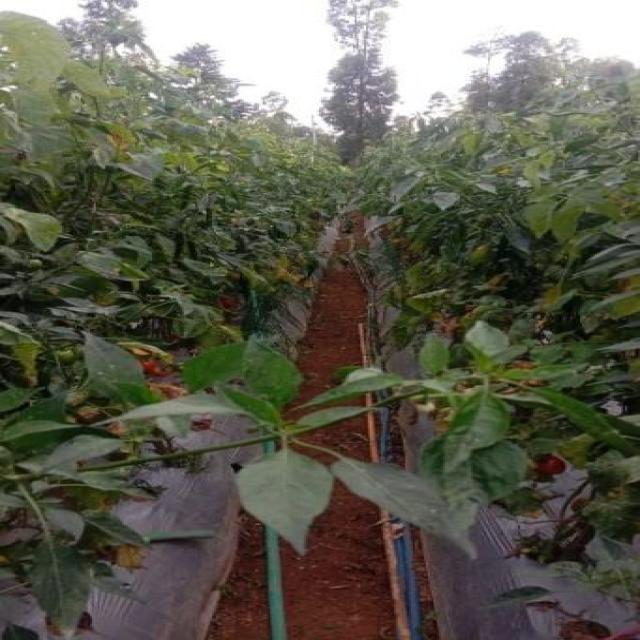row: (145, 192, 521, 640)
